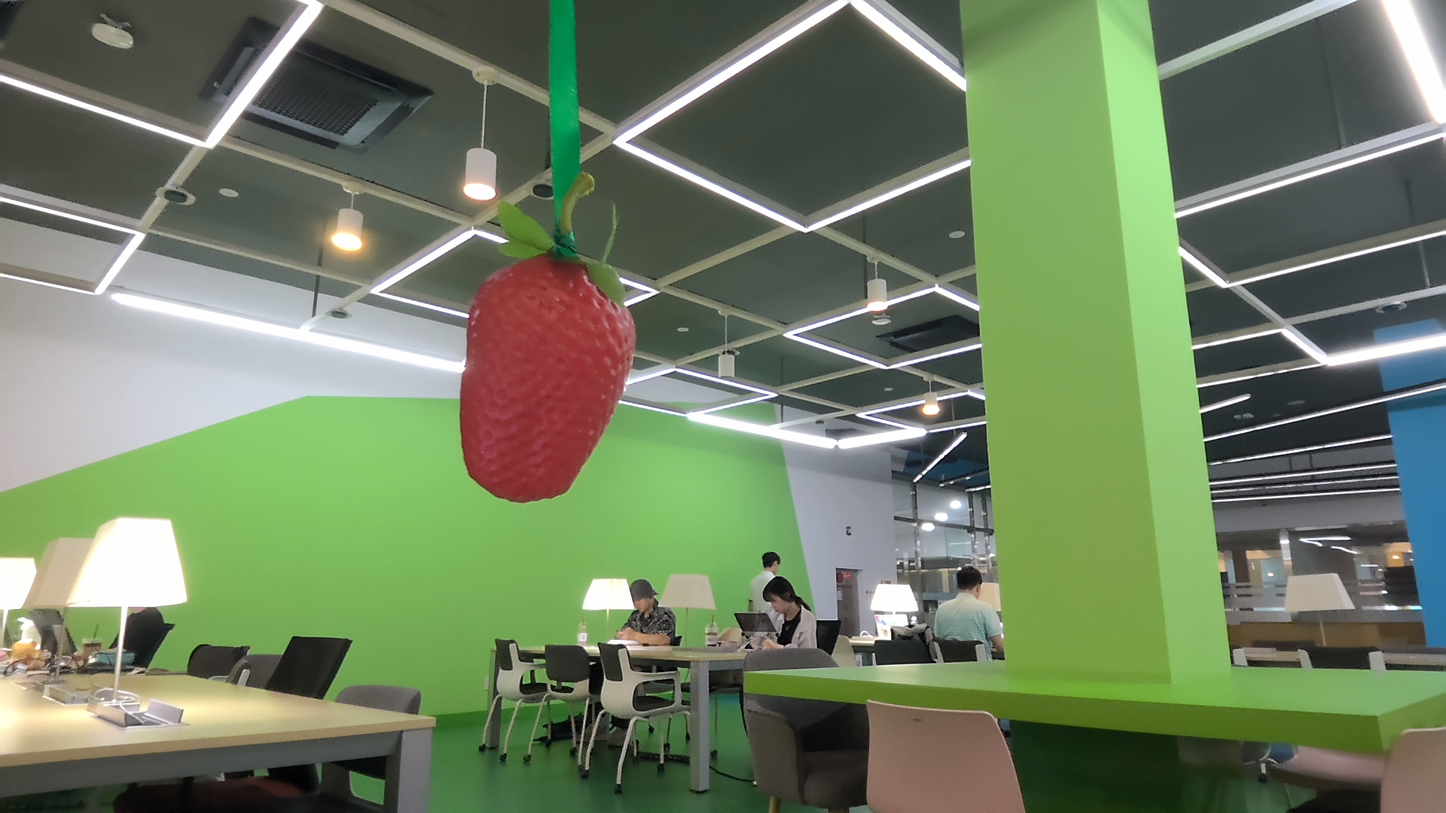strawberry: (436, 236, 651, 507)
